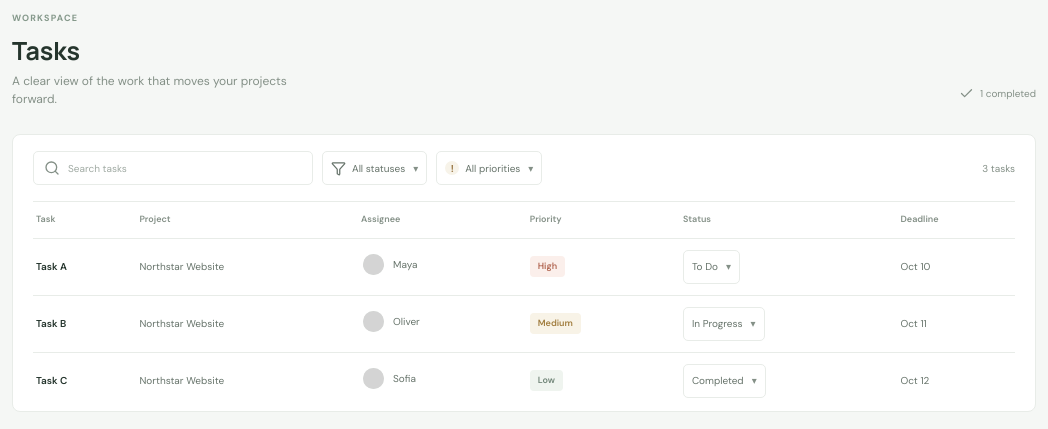
Test case: Tasks search and filters › filters tasks by priority
The image size is (1048, 429).
expect the text "Task A" is shown: met, box [36,260,67,273]
Click the button with aria-label "Filter tasks by priority". click: (489, 168)
box: [436,151,542,185]
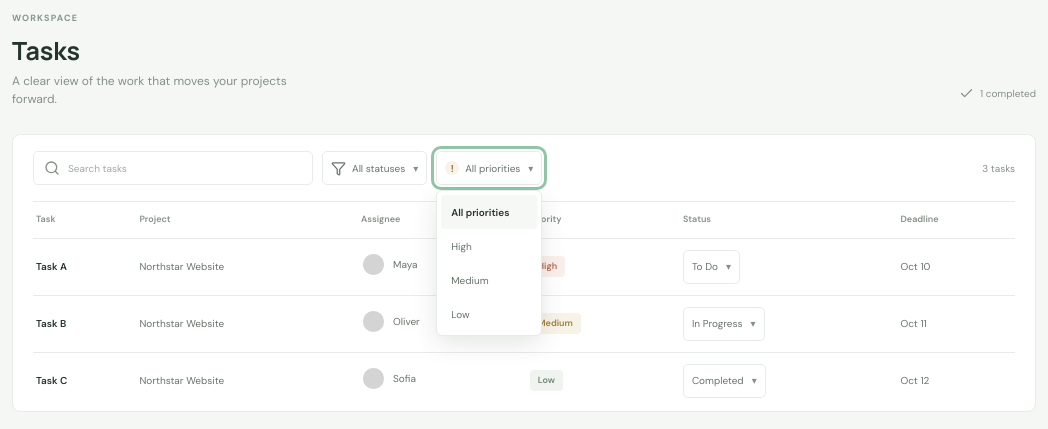
Click the option "High". click: (461, 246)
box: [451,240,472,252]
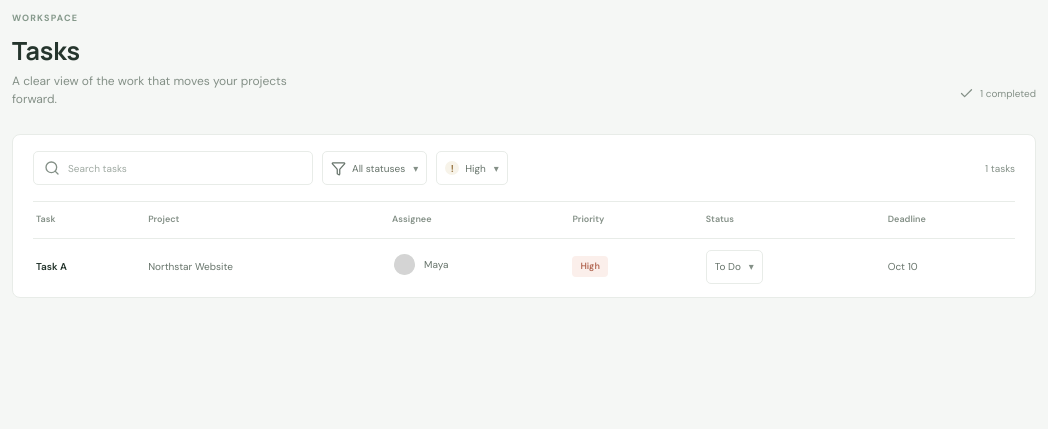
expect the text "Task A" is shown: met, box [36,260,67,273]
expect the text "Task B" is gone: met
expect the text "Task C" is gone: met
